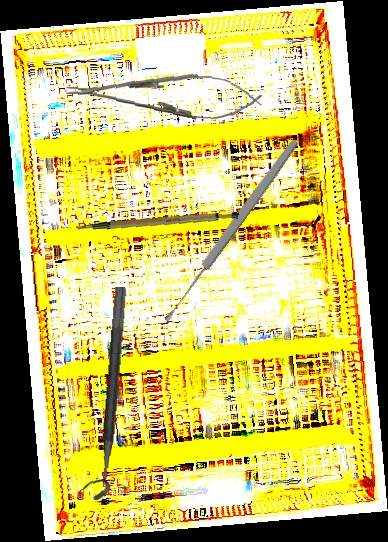Fixation Ring: (77, 285, 129, 501)
Needle Holder: (63, 66, 264, 123)
Scalpel Handle: (76, 198, 239, 241)
Surgical Spoon: (160, 137, 301, 324)
